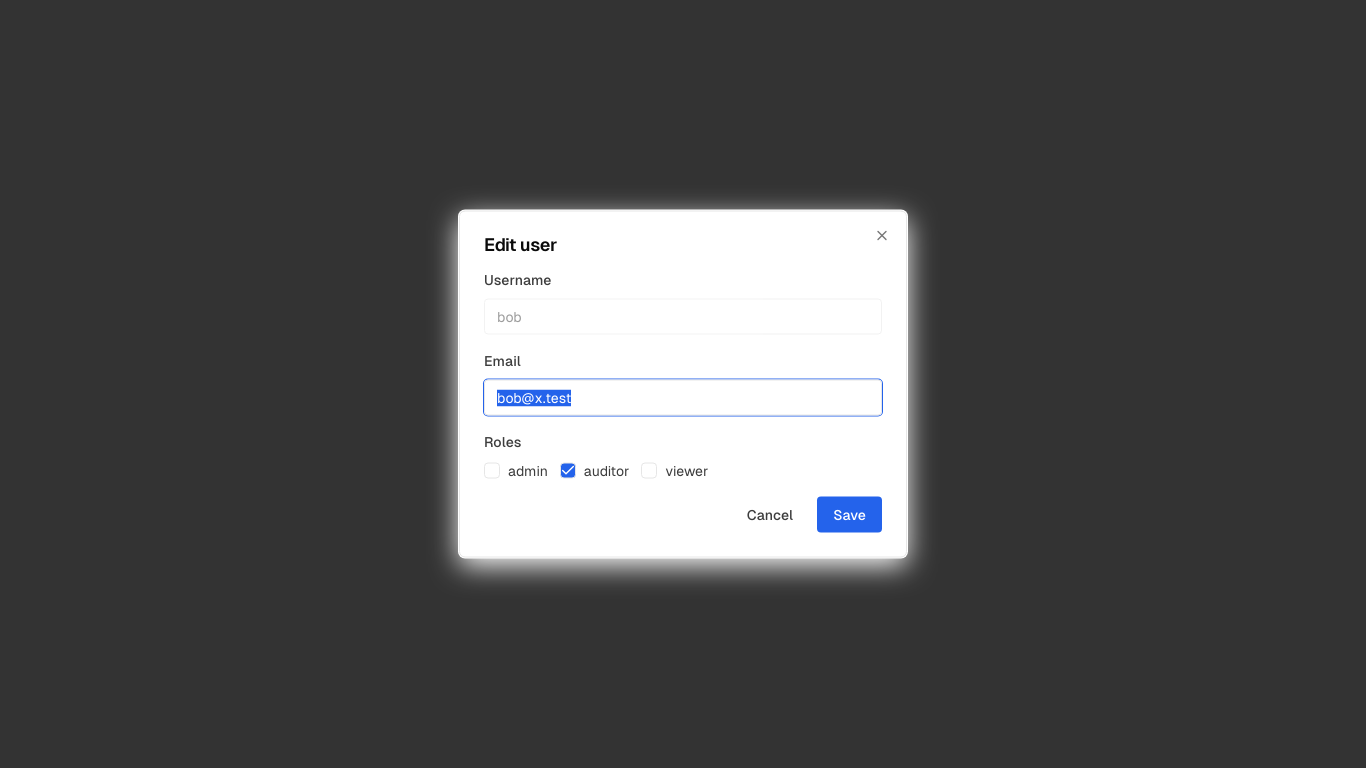
it: UsersDialog — edit › requires at least one role on edit and surfaces backend failures
Click the text "auditor": click(595, 470) [560,460,629,480]
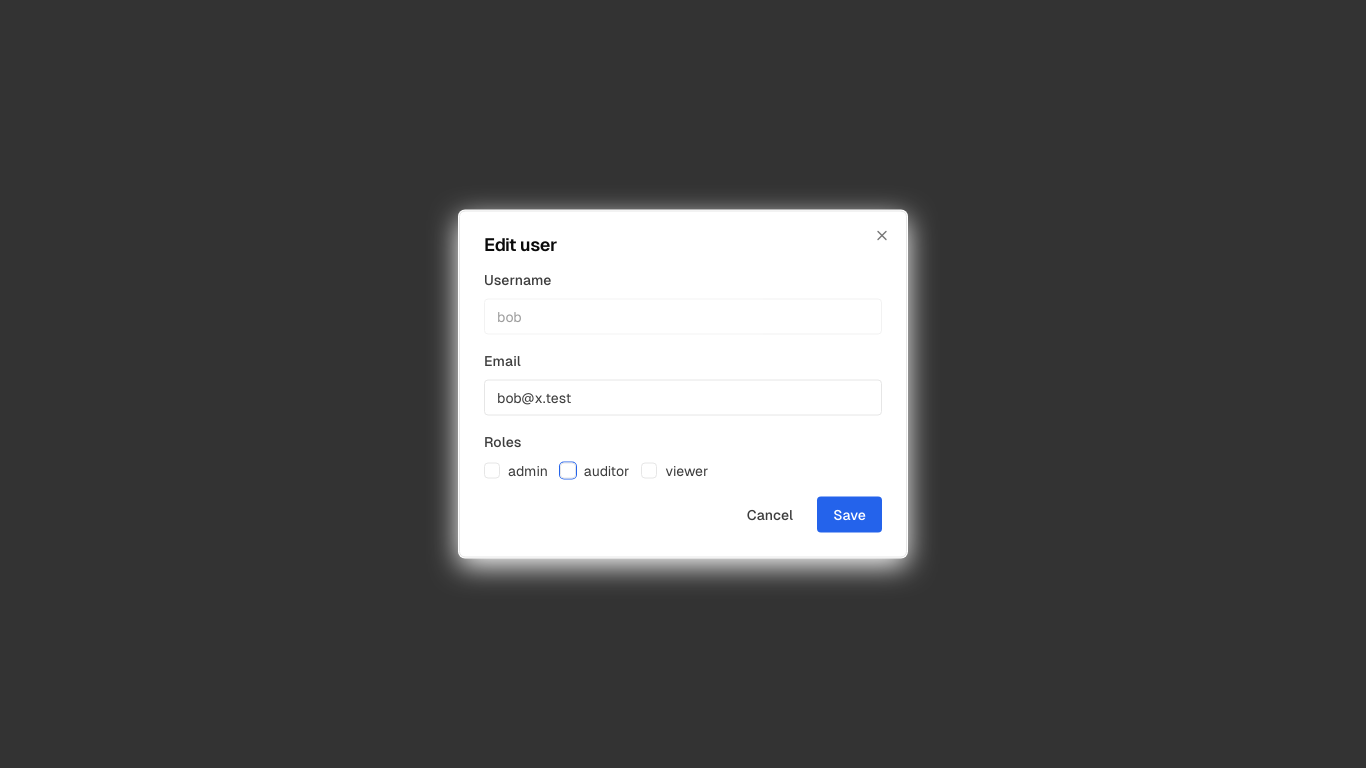
Click the button "Save": click(850, 514) [817,496,882,532]
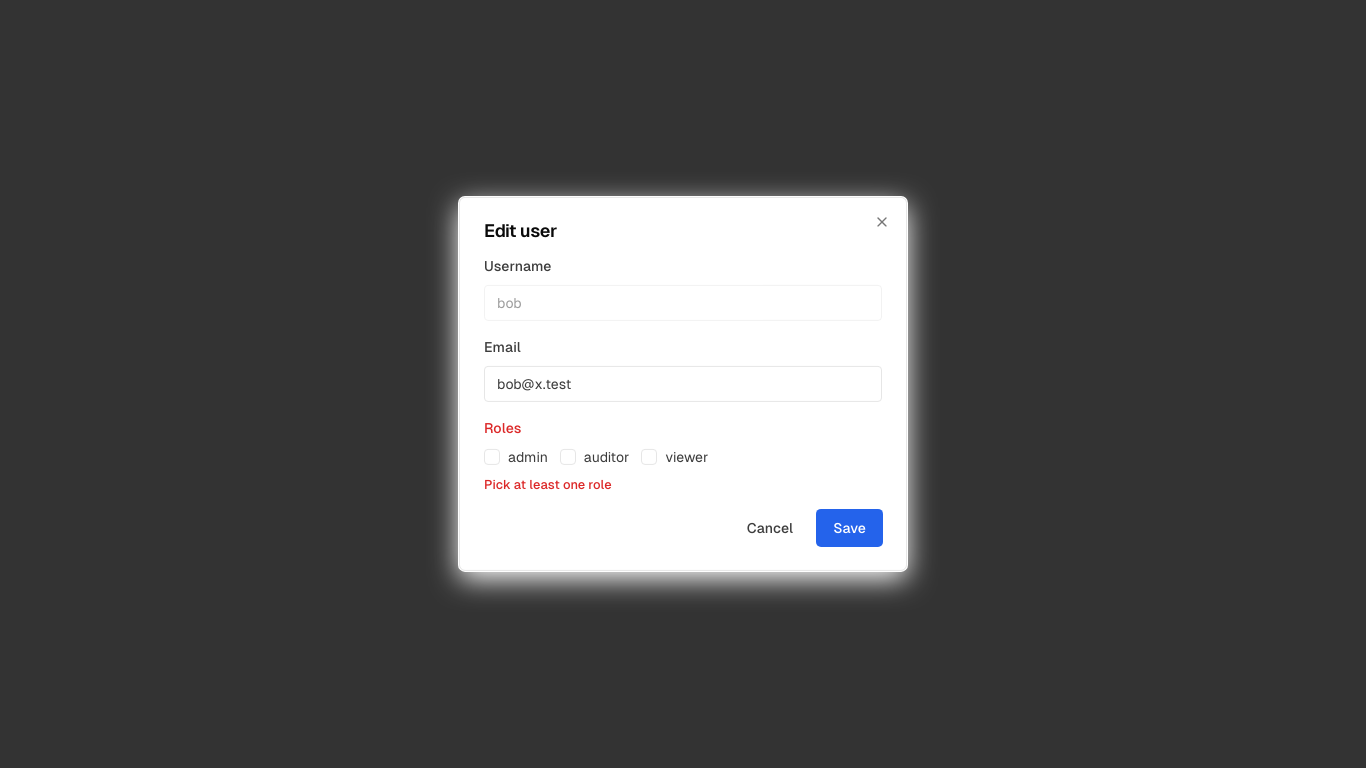
Result: the text "Pick at least one role" is shown at [484,477,612,492]
Click the text "auditor": click(595, 457) [560,447,629,467]
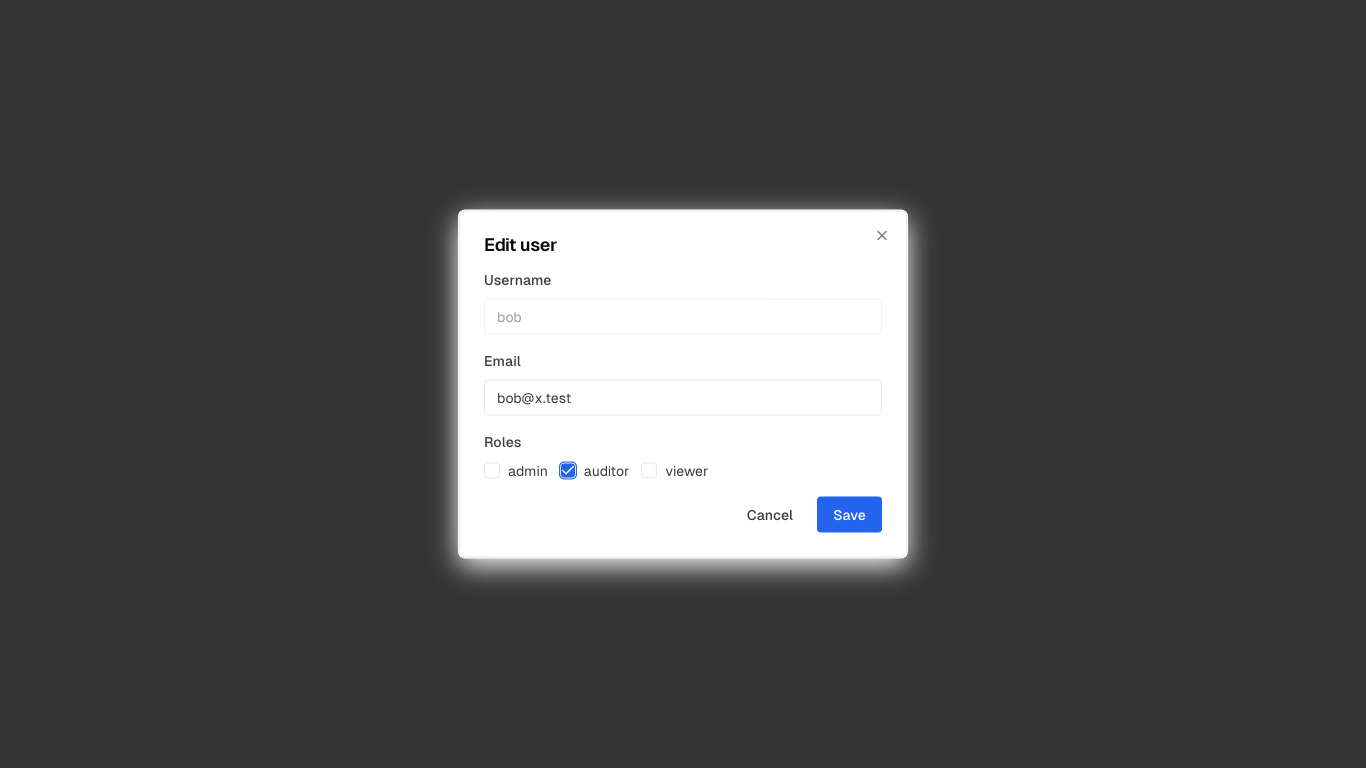
Click the button "Save": click(850, 514) [817,496,882,532]
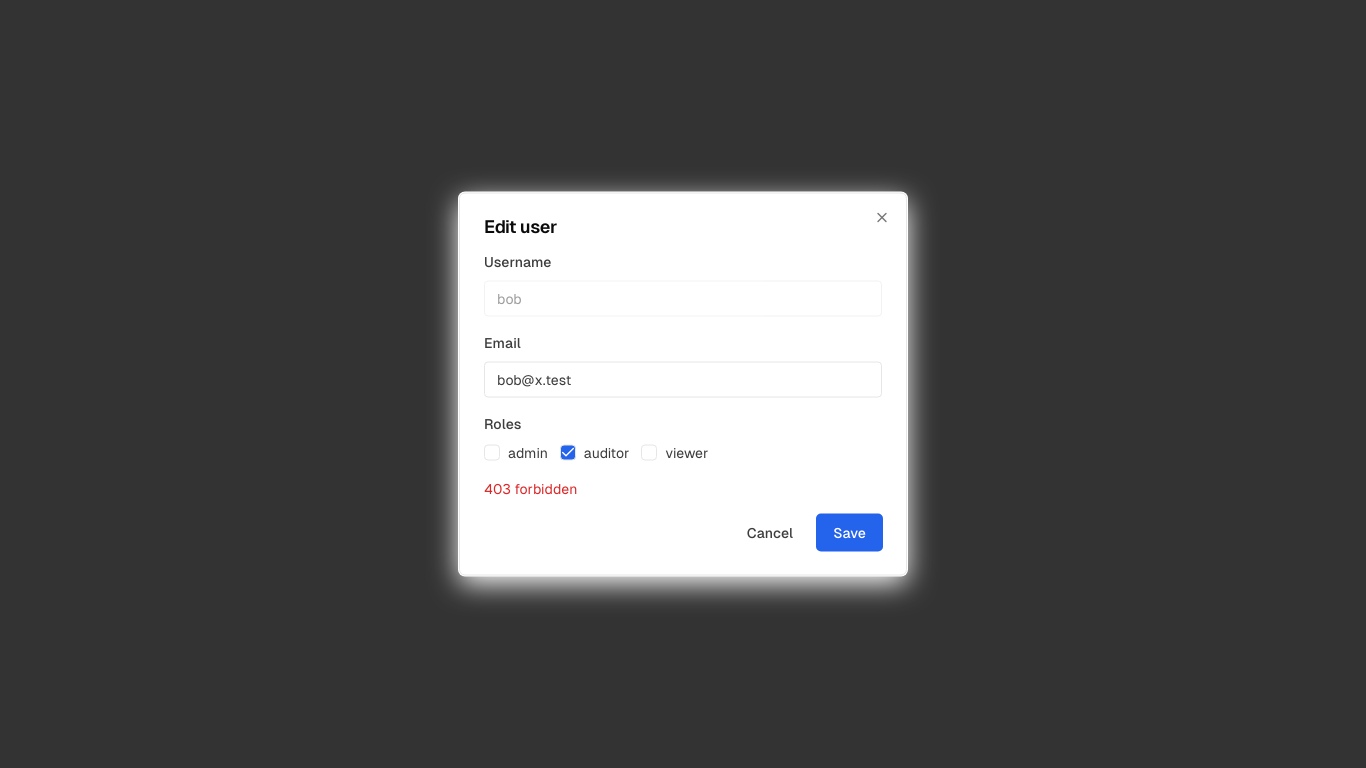
Result: the text "403 forbidden" is shown at [484,480,577,496]
